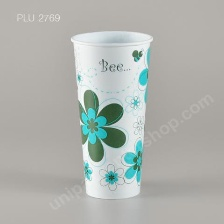paper_cup: (65, 26, 158, 203)
